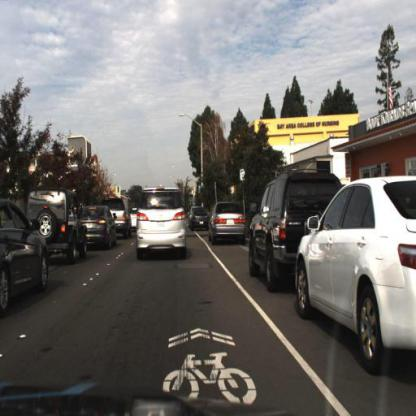car: (294, 176, 416, 389), (248, 176, 338, 293), (1, 197, 51, 319), (39, 177, 87, 277), (28, 189, 87, 264), (133, 182, 187, 259), (81, 207, 118, 247), (209, 203, 246, 243), (110, 195, 134, 241), (189, 205, 211, 233)
